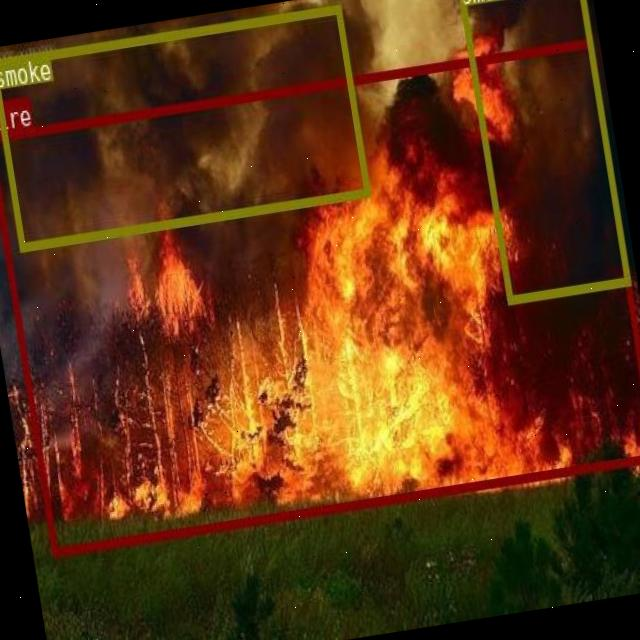fire: (0, 36, 640, 555)
smoke: (0, 5, 369, 251), (456, 0, 630, 302)
